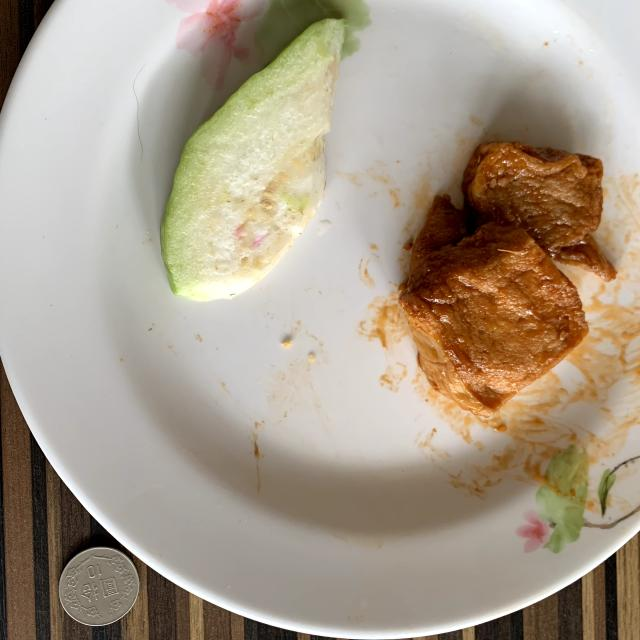coin: (59, 548, 139, 626)
creamy tofu: (399, 142, 616, 416)
guava -sliced-: (161, 19, 344, 301)
